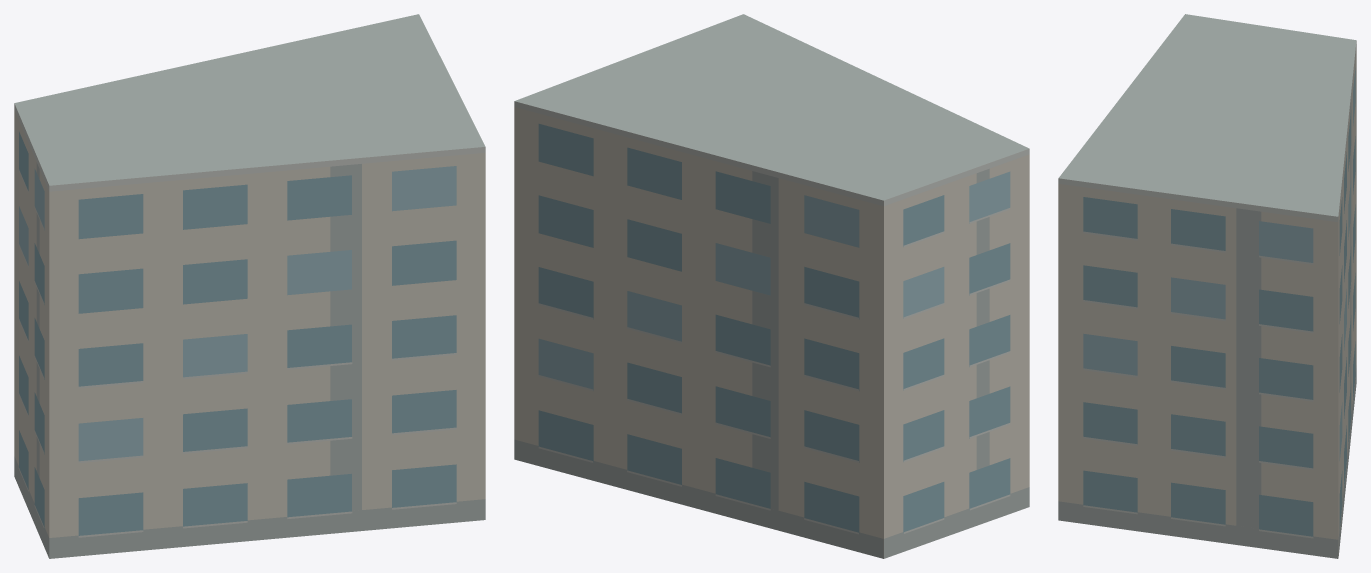
The model's file is residential-a2761560-3ee6-4c25-a34b-cbd1f1738196.glb.
3 views of the same model, side by side, from view 1: azimuth 30°, elevation 25°; view 2: azimuth 150°, elevation 25°; view 3: azimuth 270°, elevation 25° (orthographic). The views are drawn at different scales.
Parts seen in each view (by area): view 1: residential-a2761560-3ee6-4c25-a34b-cbd1f1738196.tmp; view 2: residential-a2761560-3ee6-4c25-a34b-cbd1f1738196.tmp; view 3: residential-a2761560-3ee6-4c25-a34b-cbd1f1738196.tmp.
Boxes of the visible parts, x1=… form: residential-a2761560-3ee6-4c25-a34b-cbd1f1738196.tmp: x1=14, y1=14, x2=485, y2=558; residential-a2761560-3ee6-4c25-a34b-cbd1f1738196.tmp: x1=514, y1=14, x2=1029, y2=558; residential-a2761560-3ee6-4c25-a34b-cbd1f1738196.tmp: x1=1058, y1=14, x2=1356, y2=558.
Size of the model in its own units: 19.39 by 15.25 by 12.06.
